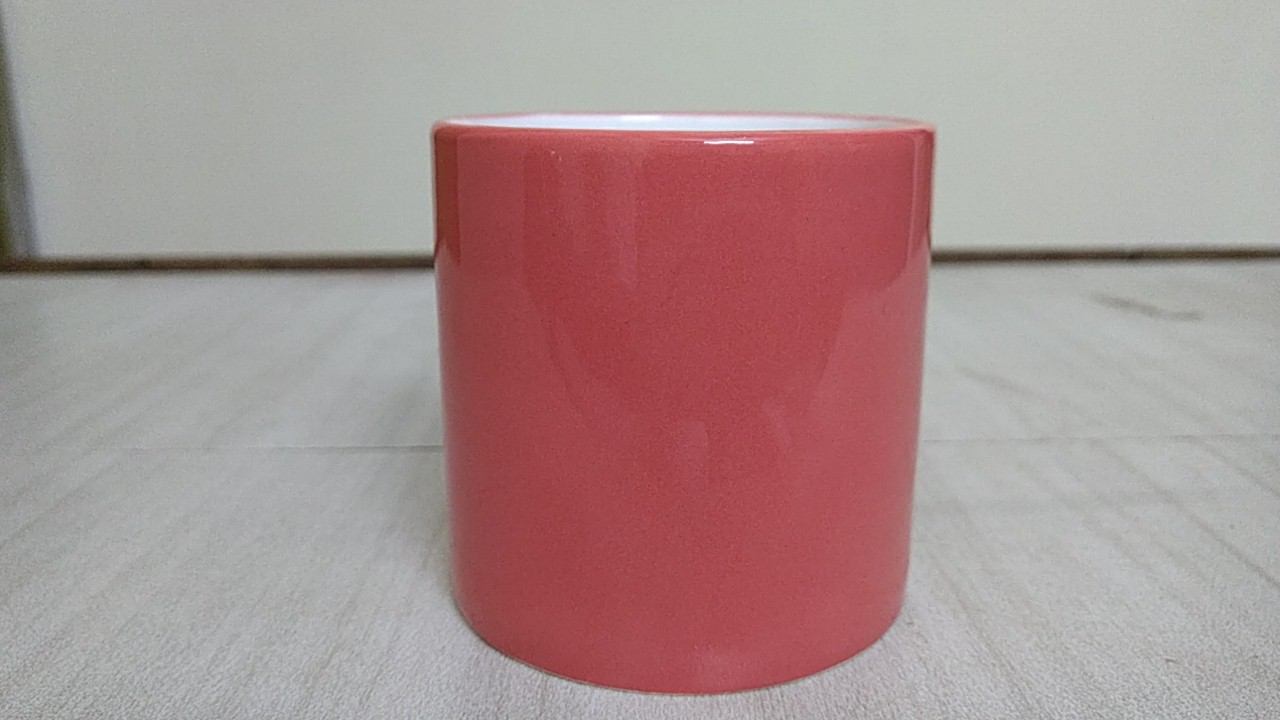cup: (409, 96, 949, 705)
